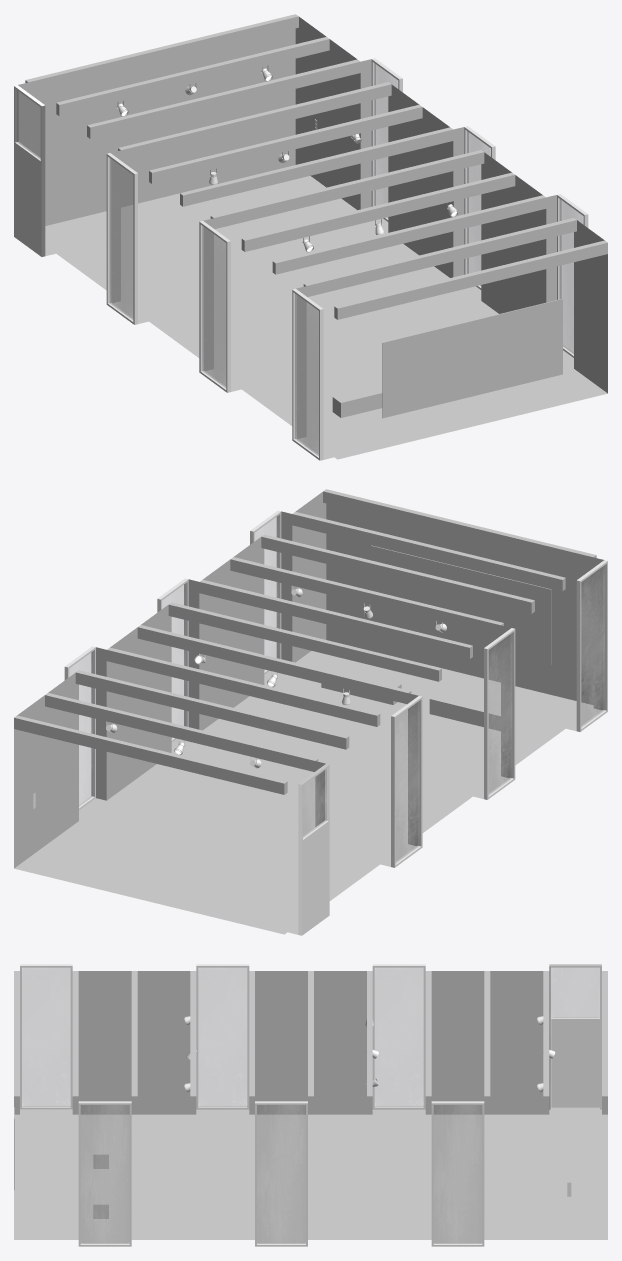
The picture shows the model from 3 angles, top to bottom: view 1: azimuth 30°, elevation 25°; view 2: azimuth 150°, elevation 25°; view 3: azimuth 270°, elevation 25°; orthographic projection. The views are drawn at different scales.
Parts seen in each view (by area): view 1: floor, walls, glass, paintiing, details; view 2: floor, walls, glass, details, paintiing; view 3: floor, walls, glass, details.
Boxes of the visible parts, box(x1,y1,x2,y2) form: floor: box(25, 14, 607, 459); walls: box(18, 17, 607, 459); glass: box(17, 63, 583, 455); paintiing: box(382, 298, 562, 418); details: box(14, 58, 588, 460); floor: box(14, 489, 596, 934); walls: box(14, 492, 603, 934); glass: box(69, 516, 604, 862); details: box(33, 510, 607, 935); paintiing: box(371, 545, 551, 664); floor: box(14, 971, 607, 1239); walls: box(14, 971, 607, 1243); glass: box(22, 967, 599, 1243); details: box(20, 964, 601, 1246).
Size of the model in its own units: 5.97 by 2.88 by 10.79.
Materials: 3 (1 with a texture image).
